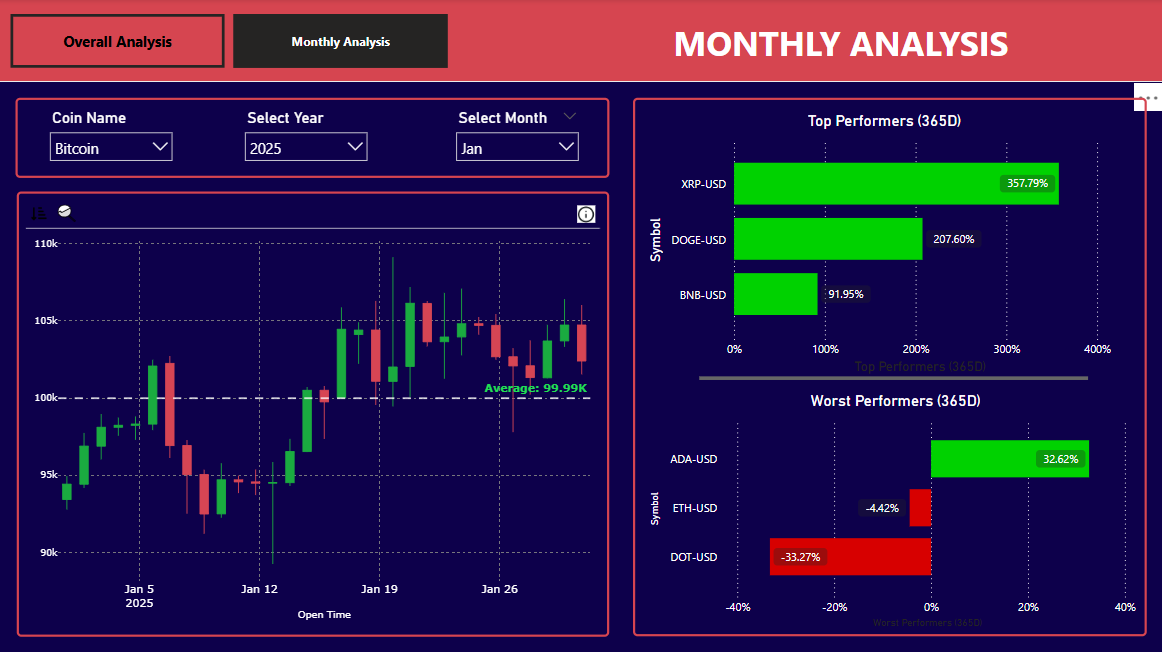

This screenshot's page, from the dashboard's own definition file:
{"tool":"powerbi","page":{"name":"Monthly Analysis","canvas":[1280,720],"ordinal":1},"visuals":[{"type":"shape","box":[19.2,108.4,651.8,87.8],"z":0,"group":"g1"},{"type":"shape","box":[697.1,108.4,564,591.4],"z":0,"group":"g2"},{"type":"candlestick95C27C147643B5E840B1D29AC39783F7","fields":{"col_1":["Sum(data.Open)"],"col_2":["Sum(data.High)"],"col_3":["Sum(data.Low)"],"col_4":["Sum(data.Close)"],"col_0":["data.Open Time"]},"box":[20.6,211.3,650.4,488.5],"z":0},{"type":"group","id":"g1","title":"Group 1","box":[19.2,108.4,651.8,87.8],"z":1000},{"type":"slicer","title":"Select Year","fields":{"Values":["data.YearColumn"]},"box":[261.1,114.9,155,62.4],"z":1000,"group":"g1"},{"type":"shape","box":[770.5,384.2,426.8,64],"z":1000,"group":"g2"},{"type":"shape","box":[0,0,1280,90],"z":2000},{"type":"slicer","fields":{"Values":["data.MonthColumn"]},"box":[492.3,114.9,155,62.4],"z":2000,"group":"g1"},{"type":"clusteredBarChart","title":"Worst Performers (365D) ","fields":{"Category":["data.Symbol"],"Y":["Measure (2).Worst Performers (365D)"]},"box":[710.5,431.3,548.6,264.5],"z":2000,"group":"g2"},{"type":"group","id":"g2","title":"Group 2","box":[697.1,108.4,564,591.4],"z":3000},{"type":"slicer","fields":{"Values":["coin_data.Coin Name"]},"box":[46.3,114.9,155,62.4],"z":3000,"group":"g1"},{"type":"textbox","box":[697.1,0,456.9,76.8],"z":4000},{"type":"clusteredBarChart","title":"Top Performers (365D)","fields":{"Category":["data.Symbol"],"Y":["Measure (2).Top Performers (365D)"]},"box":[708.8,123.4,526.9,293.2],"z":4000,"group":"g2"},{"type":"pageNavigator","box":[13.7,16.5,480.3,59],"z":4001}]}

Visuals, with their boxes in screenshot pixels (x1, y1, x2, y2), scaled from the page's 1280x720 canvas onto the 1162x652 screenshot:
shape: x1=17 y1=98 x2=609 y2=178
shape: x1=633 y1=98 x2=1145 y2=634
candlestick95C27C147643B5E840B1D29AC39783F7 - Sum(data.Open) x Sum(data.High): x1=19 y1=191 x2=609 y2=634
"Group 1" group: x1=17 y1=98 x2=609 y2=178
"Select Year" slicer: x1=237 y1=104 x2=378 y2=161
shape: x1=699 y1=348 x2=1087 y2=406
shape: x1=0 y1=0 x2=1161 y2=82
slicer - data.MonthColumn: x1=447 y1=104 x2=588 y2=161
"Worst Performers (365D) " clusteredBarChart: x1=645 y1=391 x2=1143 y2=630
"Group 2" group: x1=633 y1=98 x2=1145 y2=634
slicer - coin_data.Coin Name: x1=42 y1=104 x2=183 y2=161
textbox: x1=633 y1=0 x2=1048 y2=70
"Top Performers (365D)" clusteredBarChart: x1=643 y1=112 x2=1122 y2=377
pageNavigator: x1=12 y1=15 x2=448 y2=68
